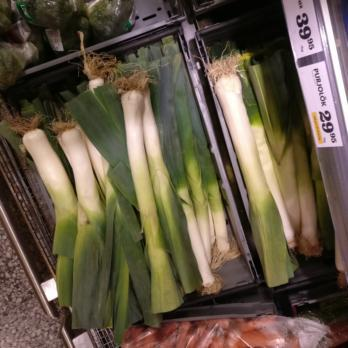Leek Leaves: (99, 53, 217, 309), (34, 83, 136, 325), (202, 39, 296, 284)
